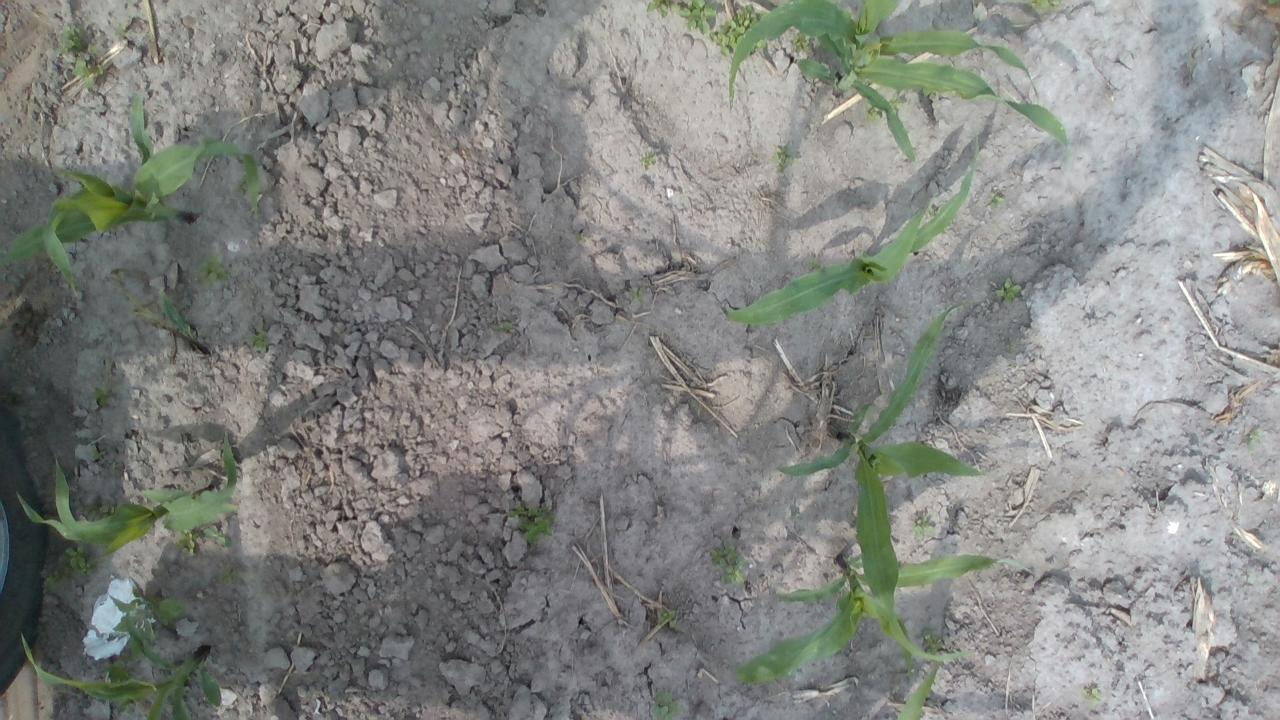Maize: (776, 301, 991, 665), (726, 3, 1074, 172), (2, 90, 264, 305), (718, 126, 983, 328), (729, 550, 1038, 697), (16, 428, 240, 564), (18, 598, 225, 718), (889, 651, 950, 719)
Weeds: (644, 0, 766, 59), (39, 541, 90, 610), (85, 356, 114, 468), (54, 25, 99, 86), (709, 544, 751, 594), (507, 503, 550, 541), (194, 257, 230, 285), (914, 513, 936, 542), (790, 29, 814, 55), (774, 148, 798, 172), (1028, 0, 1066, 15), (998, 278, 1022, 300), (626, 286, 652, 306), (1250, 428, 1269, 453), (638, 148, 660, 168), (493, 318, 516, 334), (656, 608, 676, 624), (1089, 686, 1103, 704), (251, 332, 265, 350)
